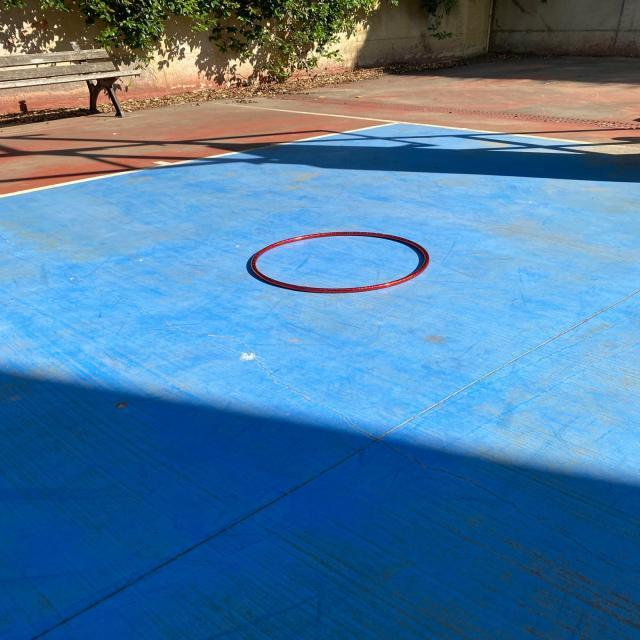Circle: (244, 230, 431, 295)
